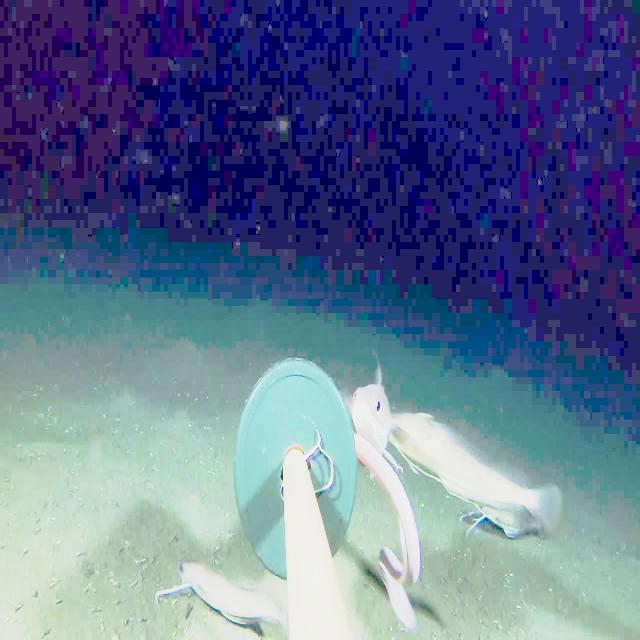eel: (350, 423, 428, 633)
fish: (158, 548, 287, 634), (351, 359, 401, 453), (461, 498, 543, 552)
pole: (219, 344, 353, 585)
